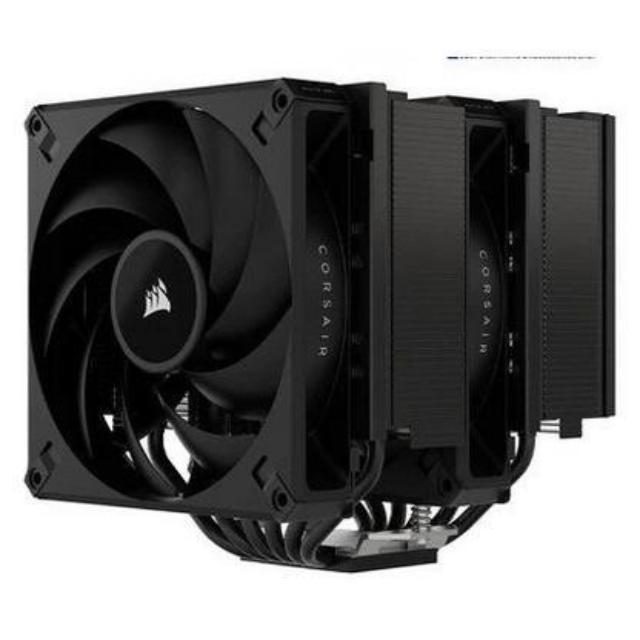CPU_Fan: (19, 77, 614, 568)
